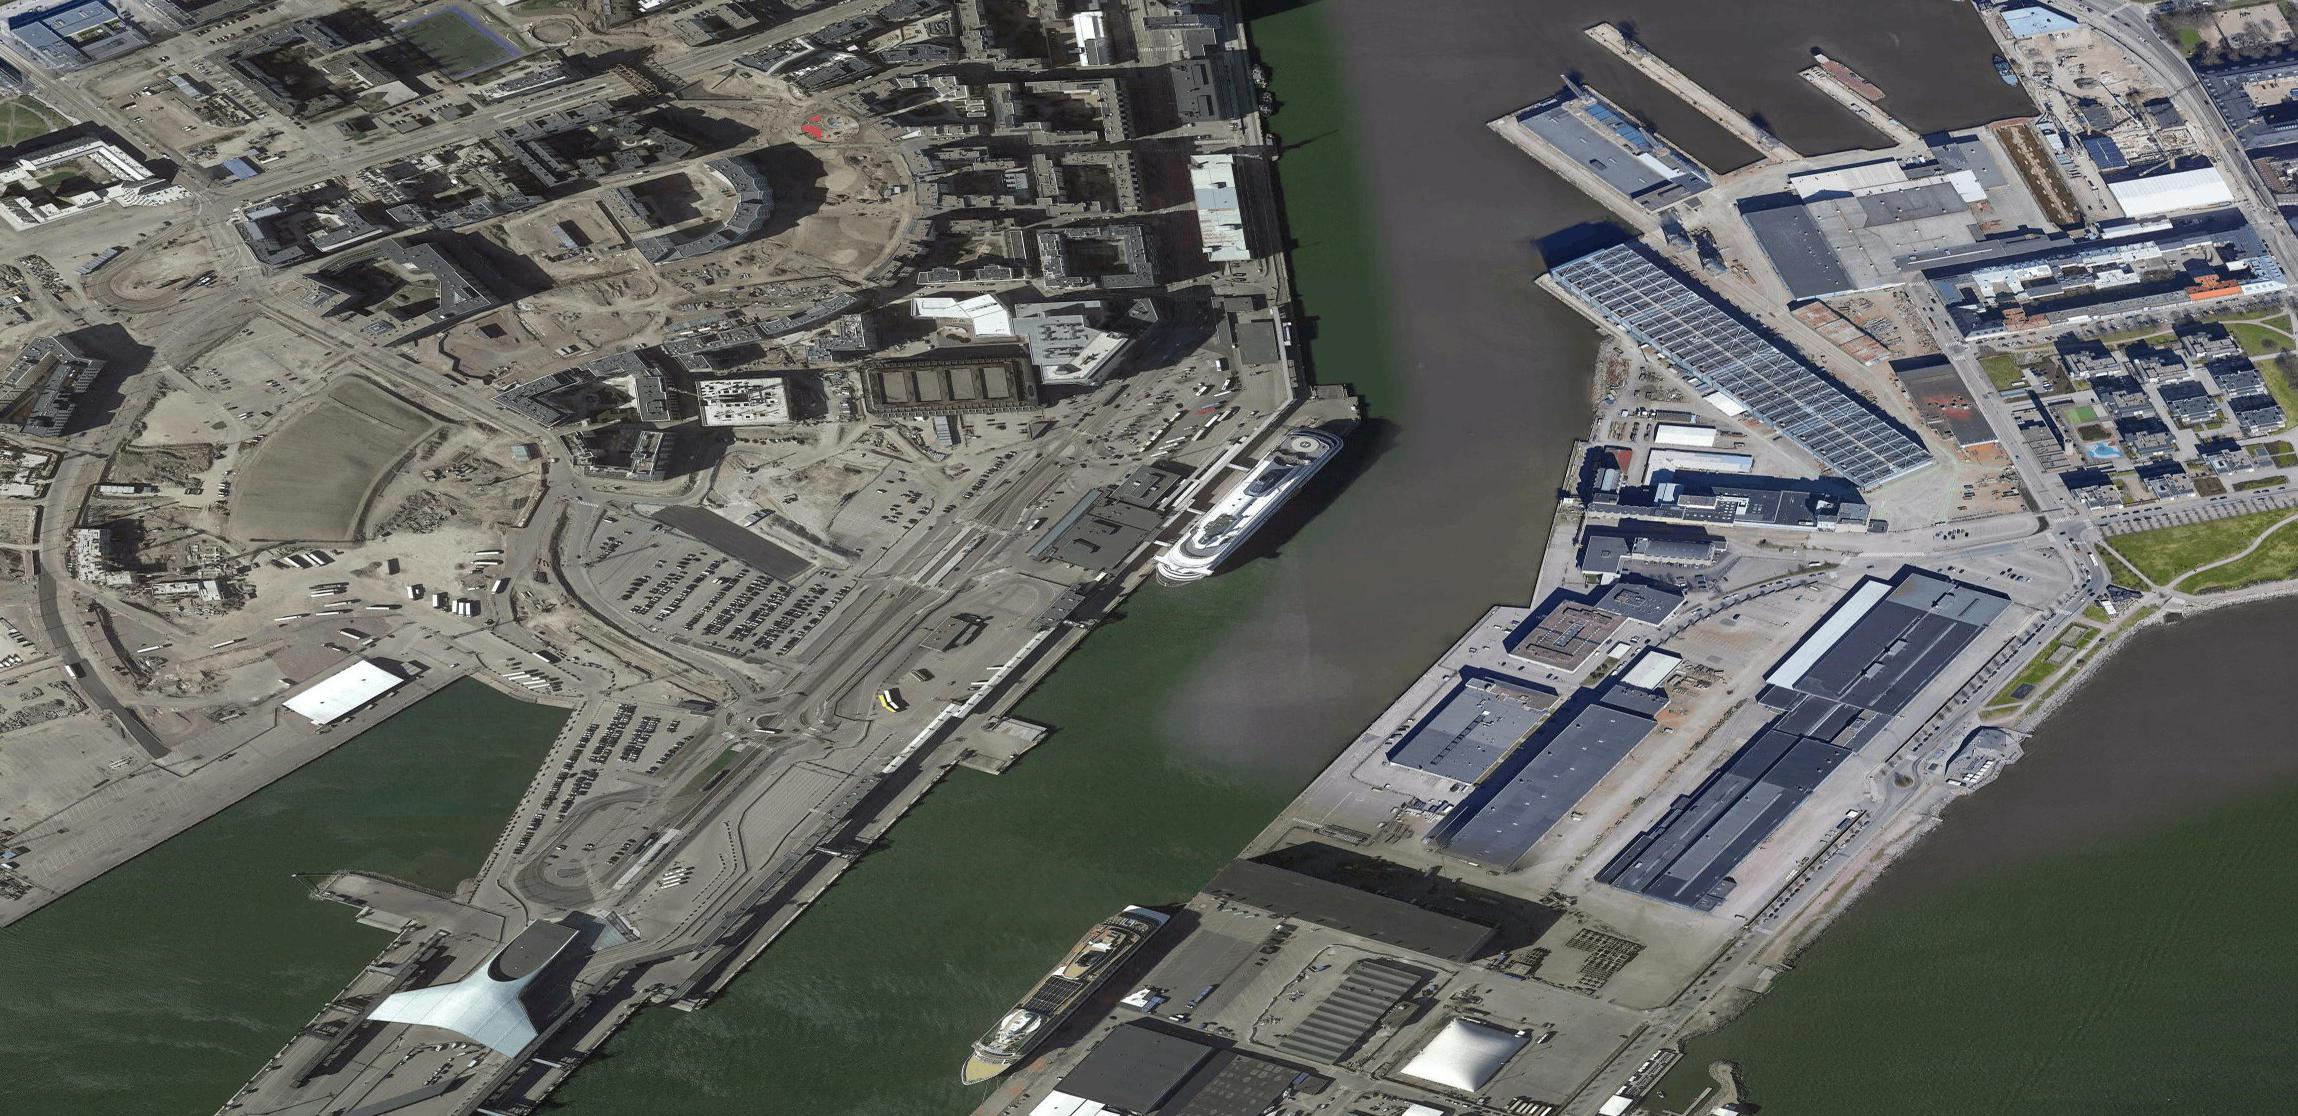harbor: (43, 23, 2298, 1112)
